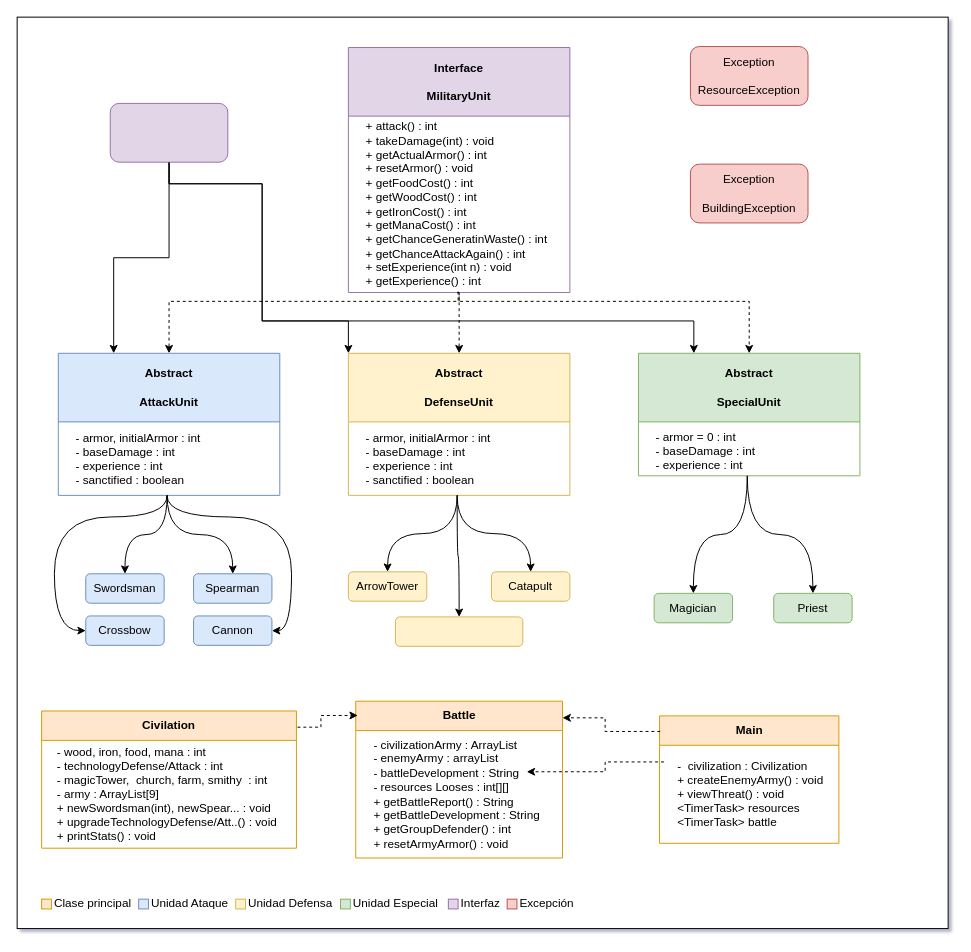
The diagram is 971 pixels wide and 952 high, and some of its shapes have lost their labels. The shapes that lost their labels are listed below. From the top down, each one's centre as x and y in pixels, then its label:
At point (168, 132): "Interface Variables".
At point (458, 631): "RocketLaunchTower".
